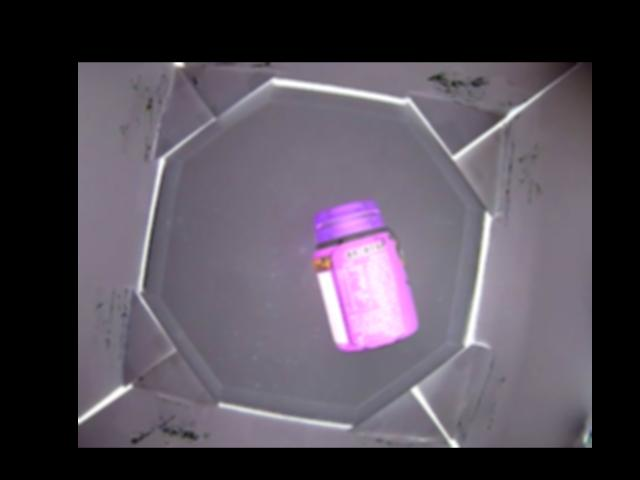Bottle: (312, 202, 419, 352)
